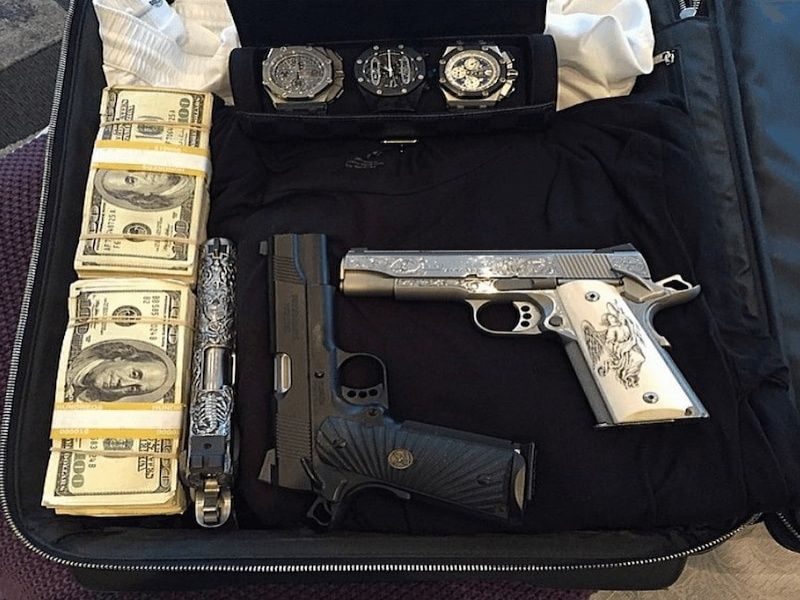cash: (42, 277, 197, 514), (73, 85, 213, 284)
weapon: (254, 230, 539, 527), (339, 246, 711, 428), (185, 237, 239, 528)
